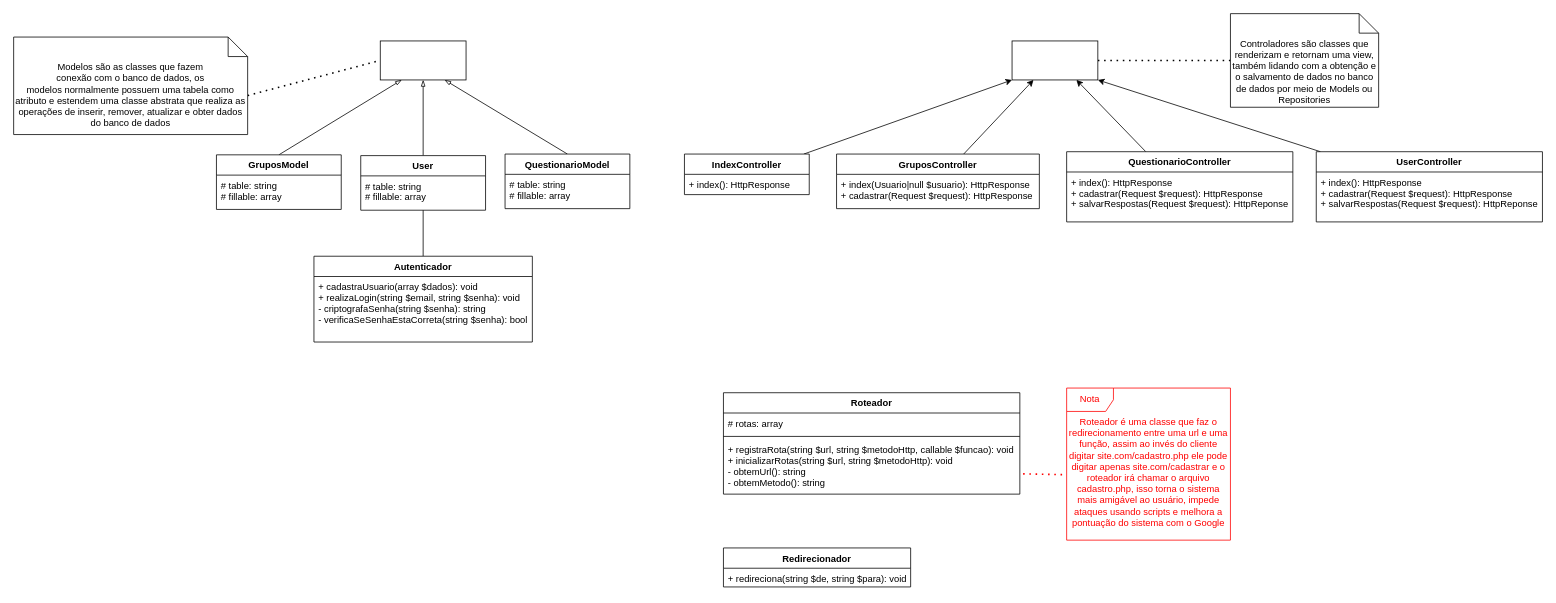
Some shapes in this 1556 by 603 pixel diagram are drawn without their labels. Each missing label, with the centre of its shape:
"Controller" belongs at (x=1054, y=60).
"Model" belongs at (x=422, y=60).
